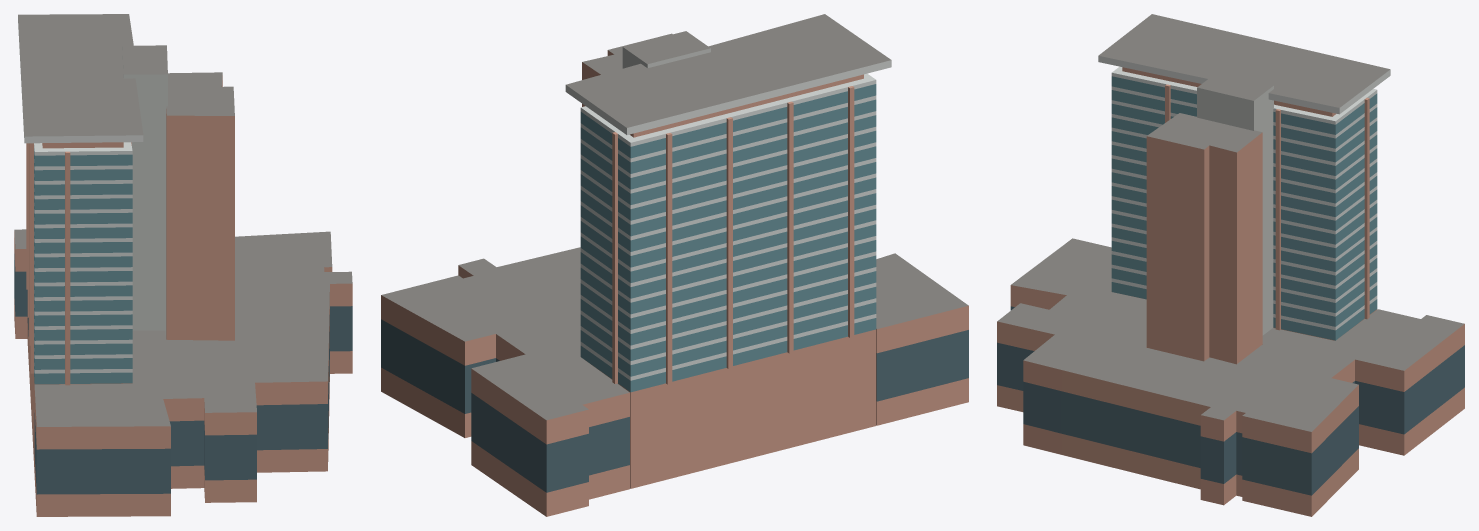
The model's file is regional_justice_cente_w226508857.glb.
3 views of the same model, side by side, from view 1: azimuth 30°, elevation 25°; view 2: azimuth 150°, elevation 25°; view 3: azimuth 270°, elevation 25° (orthographic). The views are drawn at different scales.
Parts seen in each view (by area): view 1: Tower; view 2: Tower; view 3: Tower.
Boxes of the visible parts, x1,y1,x2,y2 form: Tower: (14, 14, 352, 516); Tower: (381, 14, 968, 516); Tower: (997, 14, 1464, 516).
Size of the model in its own units: 117 by 92.3 by 120.
